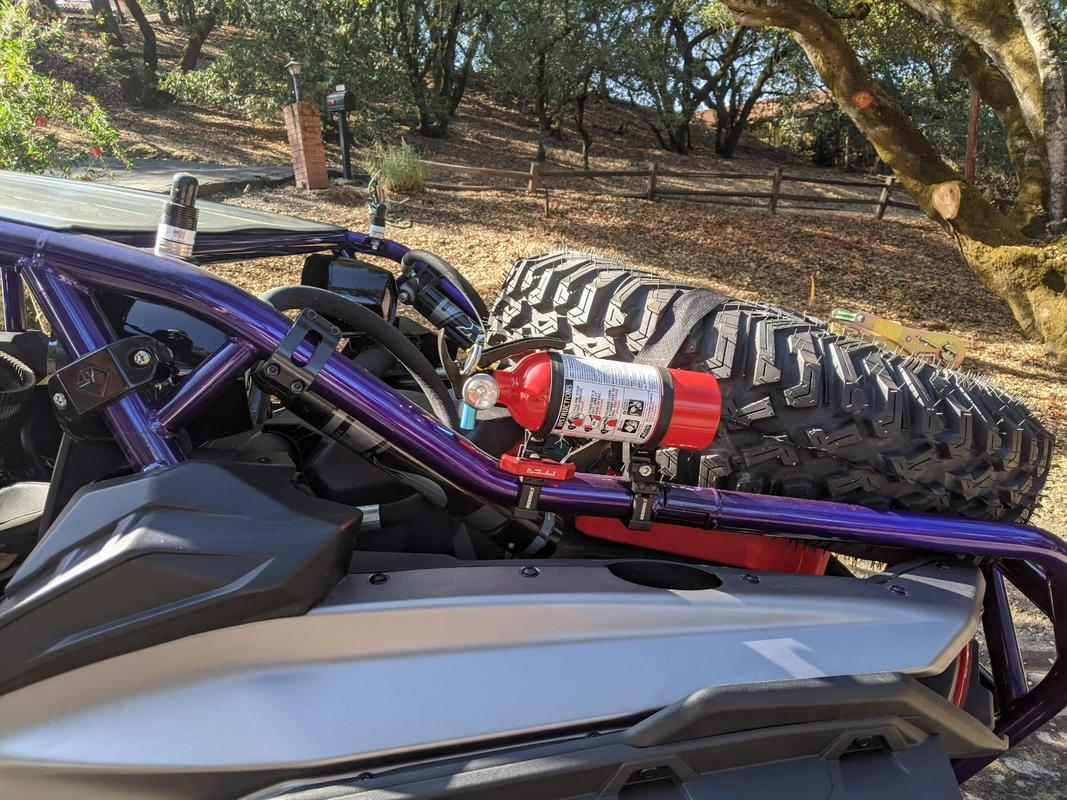Fire Extinguisher: (446, 322, 748, 482)
